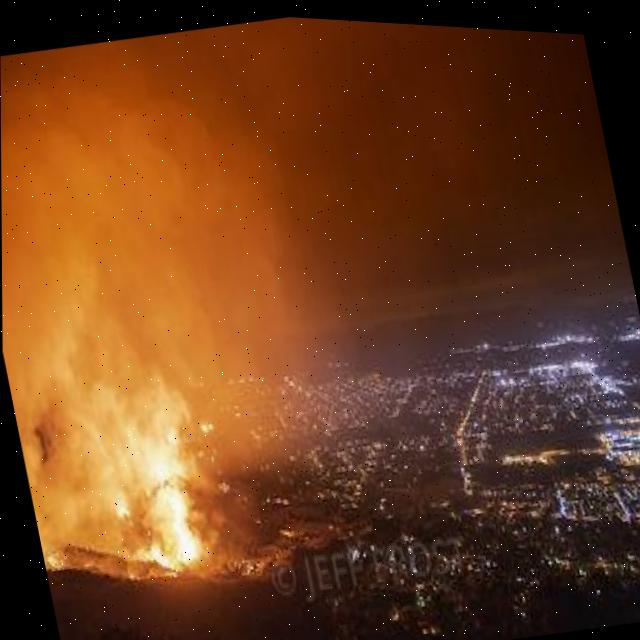fire: (136, 472, 204, 569)
smoke: (0, 13, 633, 578)
